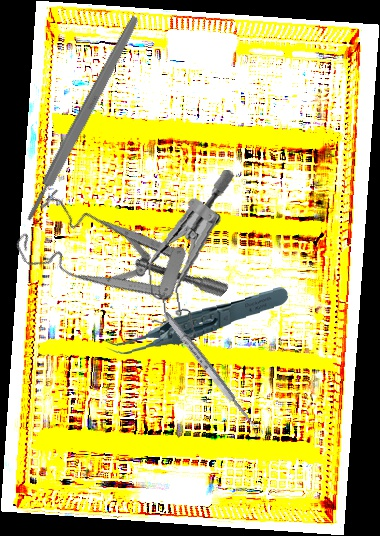Scalpel Handle: (22, 13, 142, 224)
Speculum: (5, 157, 231, 375), (133, 169, 254, 348)
Surgical Spoon: (161, 310, 265, 439)
Tissue Forceps: (99, 285, 292, 356)
